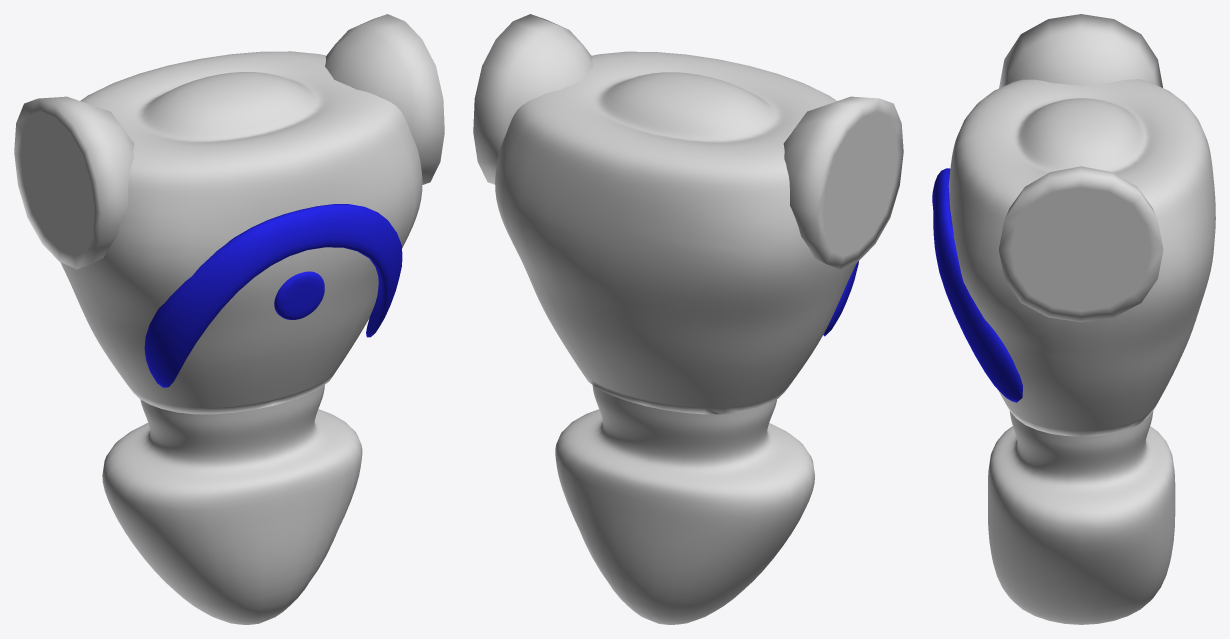
The model's file is naobody.obj.
The picture shows the model from 3 angles, left to right: view 1: azimuth 30°, elevation 25°; view 2: azimuth 150°, elevation 25°; view 3: azimuth 270°, elevation 25°; orthographic projection. The views are drawn at different scales.
Parts seen in each view (by area): view 1: Cube, Cube.001_Cube.002, Cube.003, Cube.002_Cube.001, Circle; view 2: Cube, Cube.001_Cube.002, Cube.002_Cube.001; view 3: Cube, Cube.002_Cube.001, Cube.001_Cube.002, Cube.003.
Part boxes in pixels (x1,y1,x2,y2): Cube: [60, 51, 422, 624]; Cube.001_Cube.002: [14, 96, 134, 269]; Cube.003: [144, 204, 402, 387]; Cube.002_Cube.001: [325, 14, 444, 184]; Circle: [274, 271, 324, 319]; Cube: [495, 51, 856, 624]; Cube.001_Cube.002: [783, 96, 903, 269]; Cube.002_Cube.001: [473, 14, 592, 184]; Cube: [948, 79, 1215, 624]; Cube.002_Cube.001: [998, 166, 1163, 322]; Cube.001_Cube.002: [999, 14, 1162, 88]; Cube.003: [932, 168, 1022, 402].
Size of the model in its own units: 0.1534 by 0.2314 by 0.1134.
